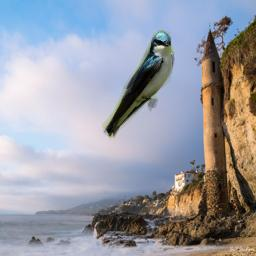Swallow: (102, 30, 175, 141)
